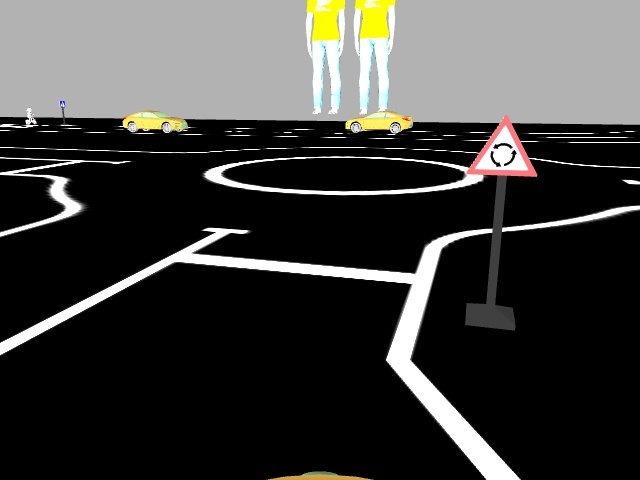Roundabout: (466, 113, 537, 178)
